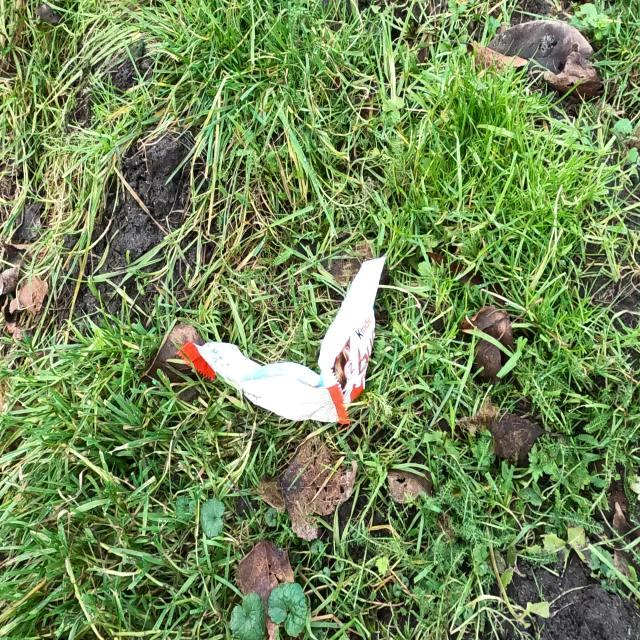Plastic: (175, 256, 388, 426)
